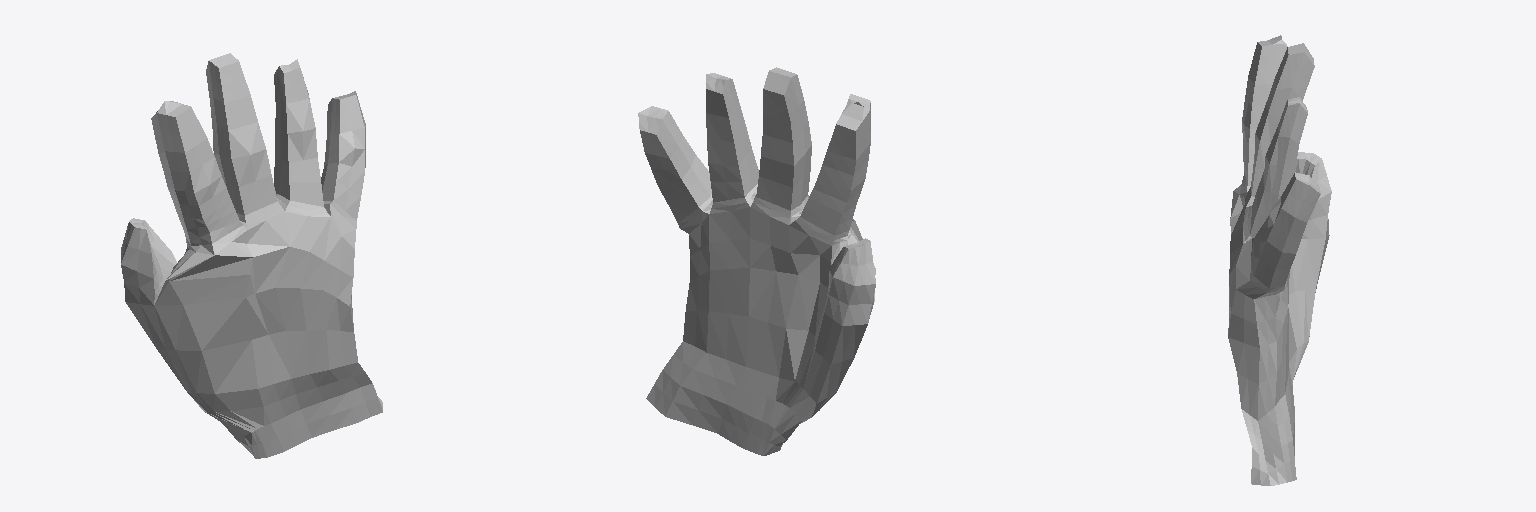
The model's file is hand_sub2_triang0008.obj.
3 renders of one model, left to right at view 1: azimuth 30°, elevation 25°; view 2: azimuth 150°, elevation 25°; view 3: azimuth 270°, elevation 25°, orthographic.
Parts seen in each view (by area): view 1: Hand; view 2: Hand; view 3: Hand.
Part boxes in pixels (x1,y1,x2,y2): Hand: (121, 53, 382, 458); Hand: (638, 67, 875, 455); Hand: (1228, 35, 1331, 485).
Size of the model in its own units: 3.17 by 4.92 by 1.17.